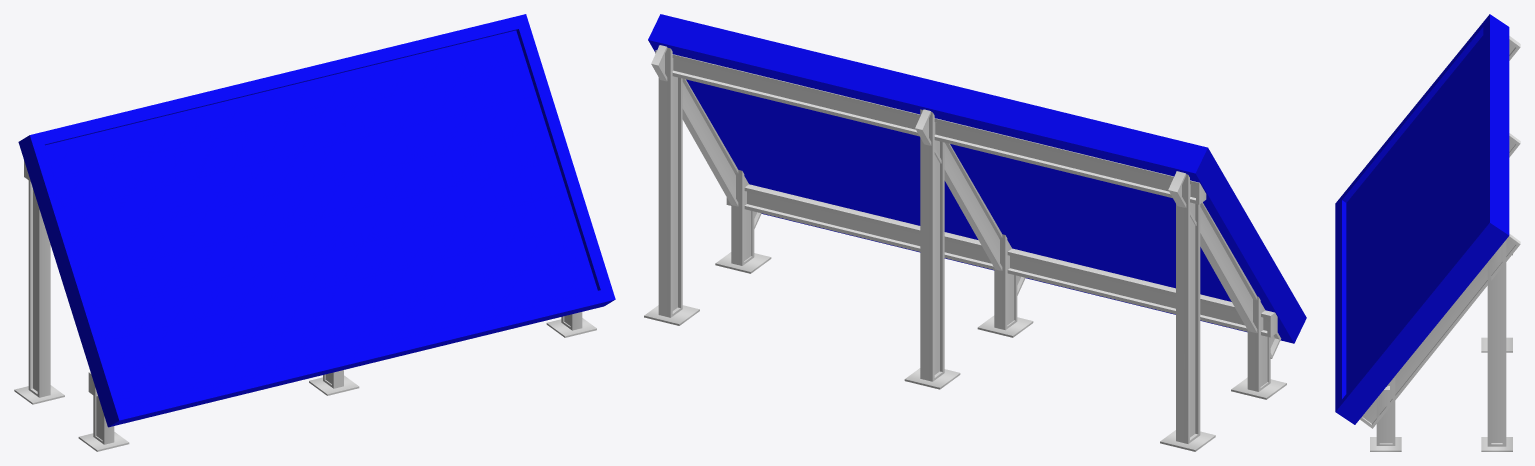
The model's file is SM_Int_SolarPanel.fbx.
3 views of the same model, side by side, from view 1: azimuth 30°, elevation 25°; view 2: azimuth 150°, elevation 25°; view 3: azimuth 270°, elevation 25° (orthographic). The views are drawn at different scales.
Parts seen in each view (by area): view 1: SM_Int_SolarPanel; view 2: SM_Int_SolarPanel; view 3: SM_Int_SolarPanel.
Part boxes in pixels (bbox=[...]): SM_Int_SolarPanel: bbox=[14, 14, 615, 451]; SM_Int_SolarPanel: bbox=[644, 14, 1306, 451]; SM_Int_SolarPanel: bbox=[1335, 14, 1520, 451].
Size of the model in its own units: 114 by 58.13 by 42.62.
